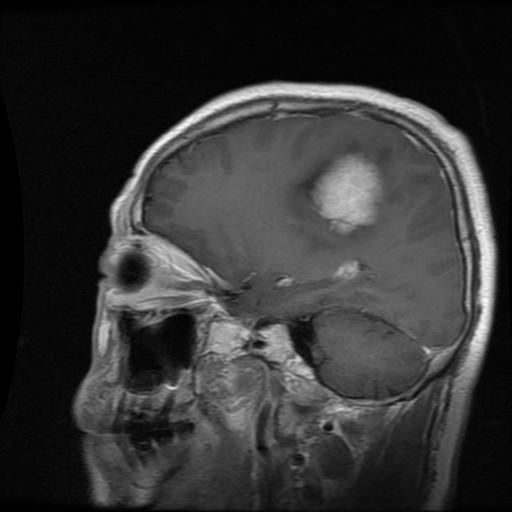Menigiomia_tumour: (307, 149, 383, 232)
